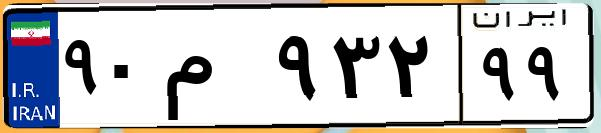0: (110, 28, 158, 98)
2: (385, 28, 445, 110)
3: (330, 28, 385, 110)
9: (270, 28, 330, 110), (57, 26, 110, 100), (475, 38, 525, 113), (525, 38, 570, 115)
م: (158, 20, 270, 120)
